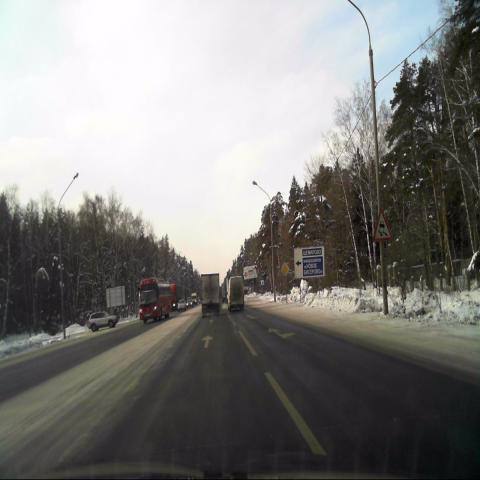1_15: (373, 209, 392, 241)
